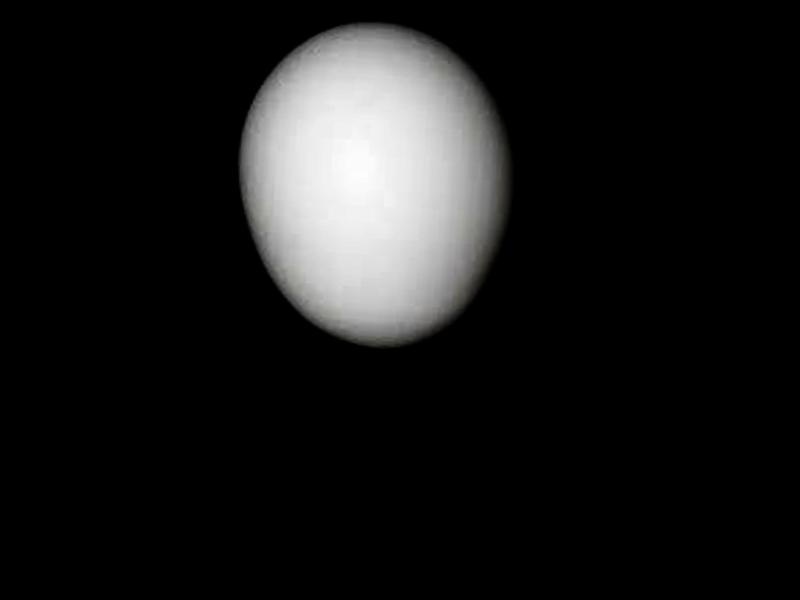Eggs: (229, 12, 516, 351)
